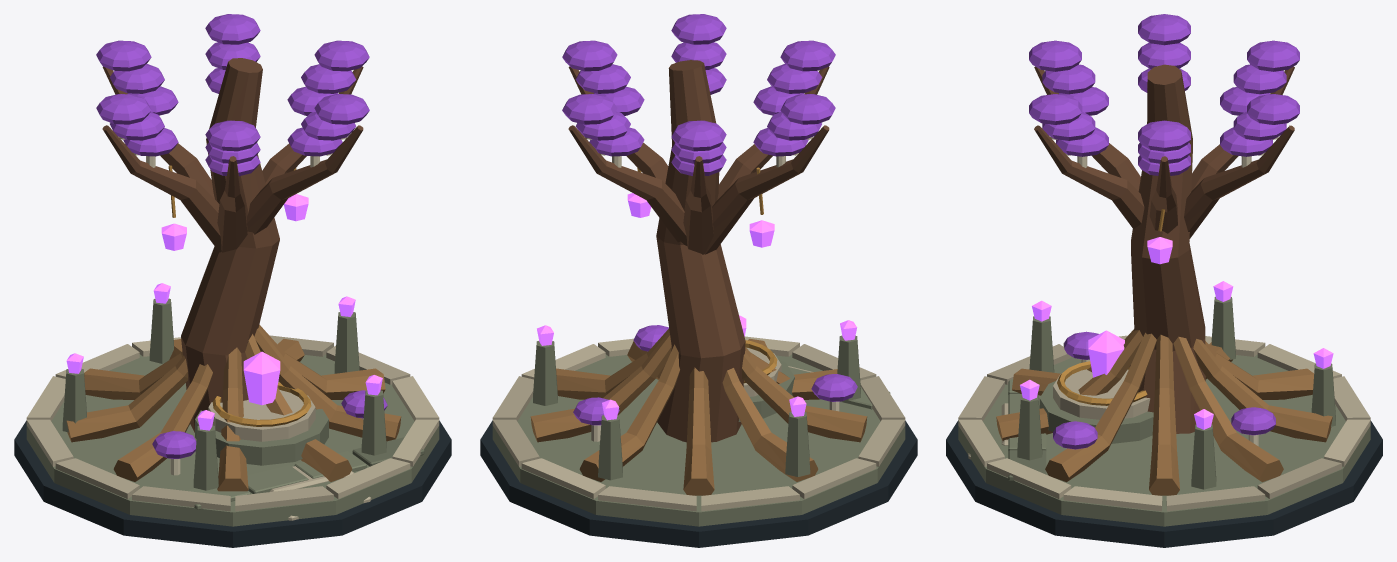
File: nature__praga__L15.glb
3 views of the same model, side by side, from view 1: azimuth 30°, elevation 25°; view 2: azimuth 150°, elevation 25°; view 3: azimuth 270°, elevation 25° (orthographic).
Parts seen in each view (by area): view 1: structure, weapon; view 2: structure; view 3: structure, weapon.
Boxes of the visible parts, bbox=[...] form: structure: bbox=[14, 14, 451, 547]; weapon: bbox=[243, 351, 280, 405]; structure: bbox=[480, 14, 917, 547]; structure: bbox=[946, 14, 1382, 547]; weapon: bbox=[1088, 330, 1124, 377].
Size of the model in its own units: 0.8624 by 0.849 by 0.8624.
